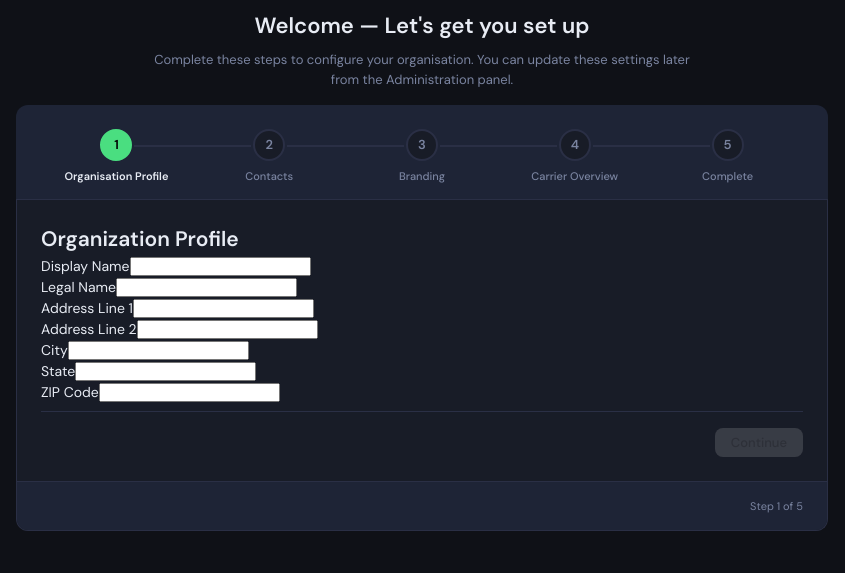
OnboardingWizard › step 2: PRIMARY and SECONDARY contact forms rendered
Type "ACME Corp" into the field labelled "Display Name" at (220, 266), box left=130, top=257, right=310, bottom=276
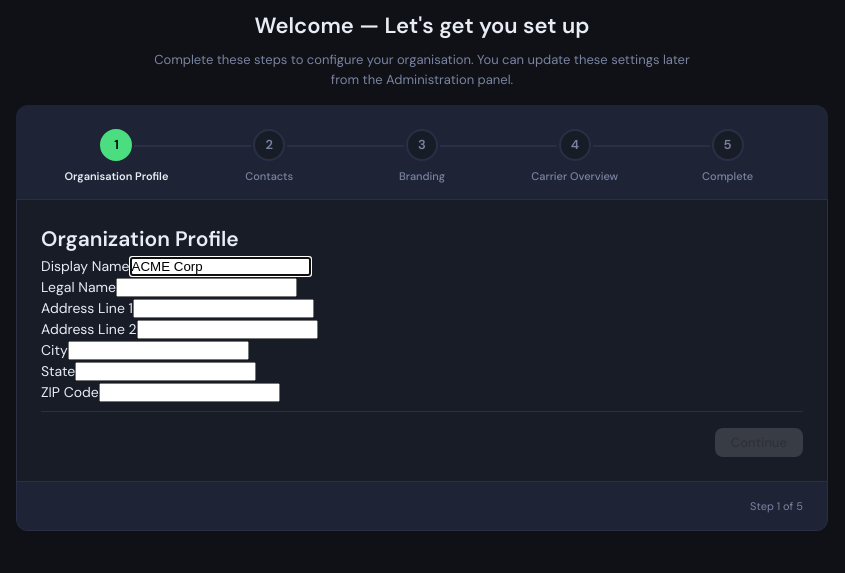
Type "ACME Corp LLC" into the field labelled "Legal Name" at (206, 287), box left=116, top=278, right=297, bottom=297
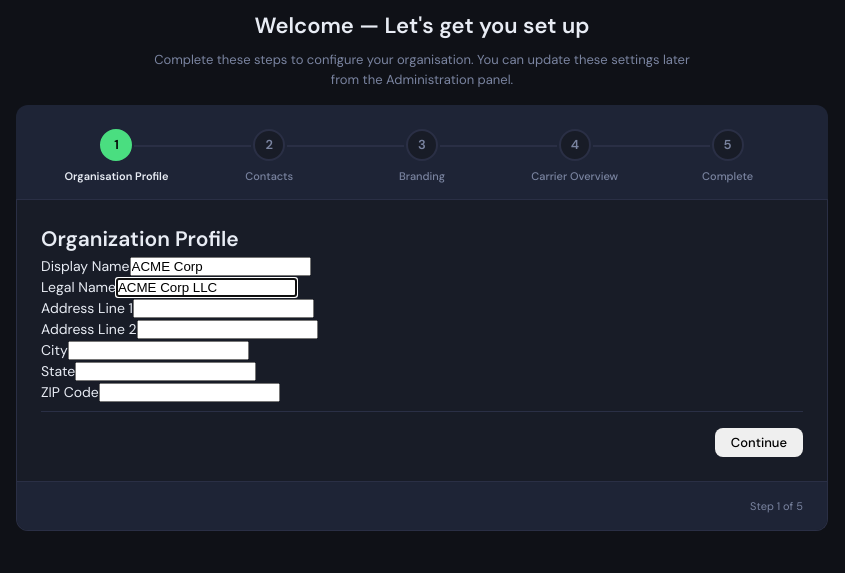
Click the button "Continue" at (759, 442), box left=715, top=428, right=803, bottom=457
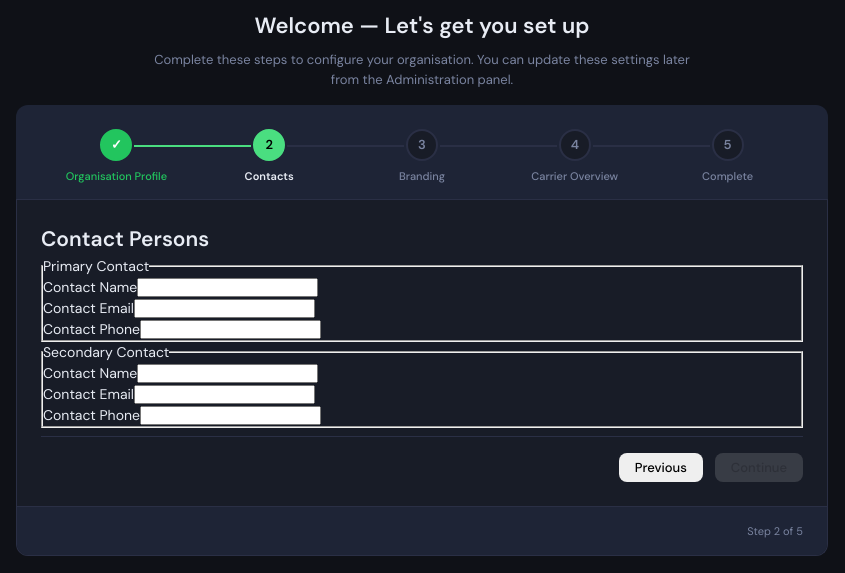
Check: the text "Primary Contact" is shown, box left=43, top=256, right=149, bottom=277
Check: the text "Secondary Contact" is shown, box left=43, top=342, right=169, bottom=363
